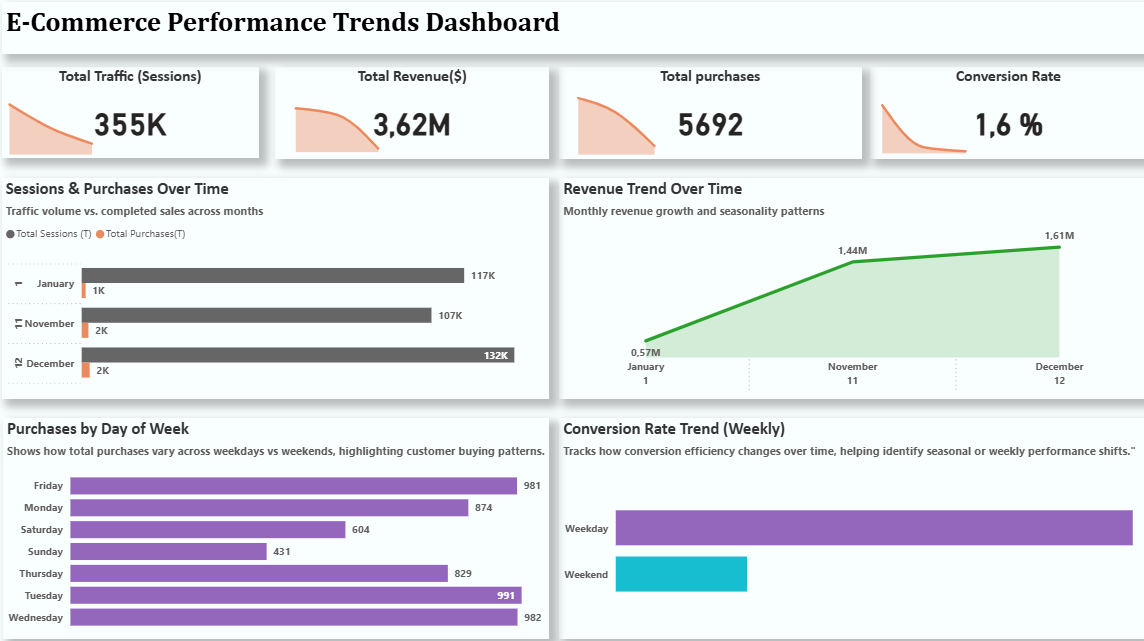

This screenshot's page, from the dashboard's own definition file:
{"tool":"powerbi","page":{"name":"Page 2","canvas":[1393,838],"ordinal":1},"visuals":[{"type":"card","title":"Total Traffic (Sessions)","fields":{"Values":["time_summary.Total Sessions (T)"]},"box":[14.9,97.1,307.6,128.4],"z":0},{"type":"card","title":"Total Revenue($)","fields":{"Values":["time_summary.Total Revenue(T)"]},"box":[342,97.1,327,129.9],"z":1000},{"type":"card","title":"Total purchases","fields":{"Values":["time_summary.Total Purchases(T)"]},"box":[681,97.1,361.4,129.9],"z":2000},{"type":"card","title":"Conversion Rate","fields":{"Values":["time_summary.Conversion Rate(T)"]},"box":[1052.8,97.1,330,129.9],"z":3000},{"type":"lineChart","title":"Total Traffic (Sessions)","fields":{"Category":["time_summary.month_index"],"Y":["time_summary.Total Sessions (T)"]},"box":[0,132.9,147.8,94.1],"z":4000},{"type":"lineChart","title":"Total Traffic (Sessions)","fields":{"Category":["time_summary.month_index"],"Y":["time_summary.Total Revenue(T)"]},"box":[342,134.4,147.8,89.6],"z":5000},{"type":"lineChart","title":"Total Traffic (Sessions)","fields":{"Category":["time_summary.month_index"],"Y":["time_summary.Total Purchases(T)"]},"box":[681,137.4,137.4,89.6],"z":6000},{"type":"lineChart","title":"Total Traffic (Sessions)","fields":{"Category":["time_summary.month_index"],"Y":["Sum(time_summary.conversion_rate)"]},"box":[1042.4,134.4,149.3,91.1],"z":7000},{"type":"lineChart","title":"Revenue Trend Over Time","fields":{"Category":["time_summary.month_index","time_summary.month_name"],"Y":["time_summary.Total Revenue(T)"]},"box":[681,249.4,701.9,264.3],"z":8000},{"type":"clusteredBarChart","title":"Sessions & Purchases Over Time","fields":{"Category":["time_summary.month_index","time_summary.month_name"],"Y":["time_summary.Total Sessions (T)","time_summary.Total Purchases(T)"]},"box":[14.9,249.4,654.1,264.3],"z":9000},{"type":"barChart","title":"Purchases by Day of Week","fields":{"Y":["time_summary.Total Purchases(T)"],"Category":["time_summary.day_name"]},"box":[15.8,536.5,652.7,263.9],"z":10000},{"type":"barChart","title":"Conversion Rate Trend (Weekly)","fields":{"Category":["time_summary.Custom"],"Y":["Sum(time_summary.conversion_rate)"]},"box":[681,536.1,701.9,264.3],"z":11000},{"type":"textbox","box":[14.9,19.4,1367.9,64.2],"z":12000}]}

Visuals, with their boxes on the page's 1393x838 design canvas (x1, y1, x2, y2). These are canvas units, not pixel positions in the 1144x641 screenshot, which may show the page scaled, cropped or inside an application window:
"Total Traffic (Sessions)" card: <bbox>15, 97, 322, 226</bbox>
"Total Revenue($)" card: <bbox>342, 97, 669, 227</bbox>
"Total purchases" card: <bbox>681, 97, 1042, 227</bbox>
"Conversion Rate" card: <bbox>1053, 97, 1383, 227</bbox>
"Total Traffic (Sessions)" lineChart: <bbox>0, 133, 148, 227</bbox>
"Total Traffic (Sessions)" lineChart: <bbox>342, 134, 490, 224</bbox>
"Total Traffic (Sessions)" lineChart: <bbox>681, 137, 818, 227</bbox>
"Total Traffic (Sessions)" lineChart: <bbox>1042, 134, 1192, 226</bbox>
"Revenue Trend Over Time" lineChart: <bbox>681, 249, 1383, 514</bbox>
"Sessions & Purchases Over Time" clusteredBarChart: <bbox>15, 249, 669, 514</bbox>
"Purchases by Day of Week" barChart: <bbox>16, 536, 668, 800</bbox>
"Conversion Rate Trend (Weekly)" barChart: <bbox>681, 536, 1383, 800</bbox>
textbox: <bbox>15, 19, 1383, 84</bbox>
